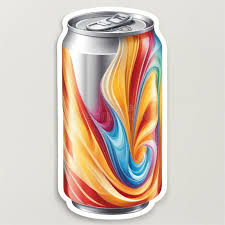can: (56, 5, 165, 220)
